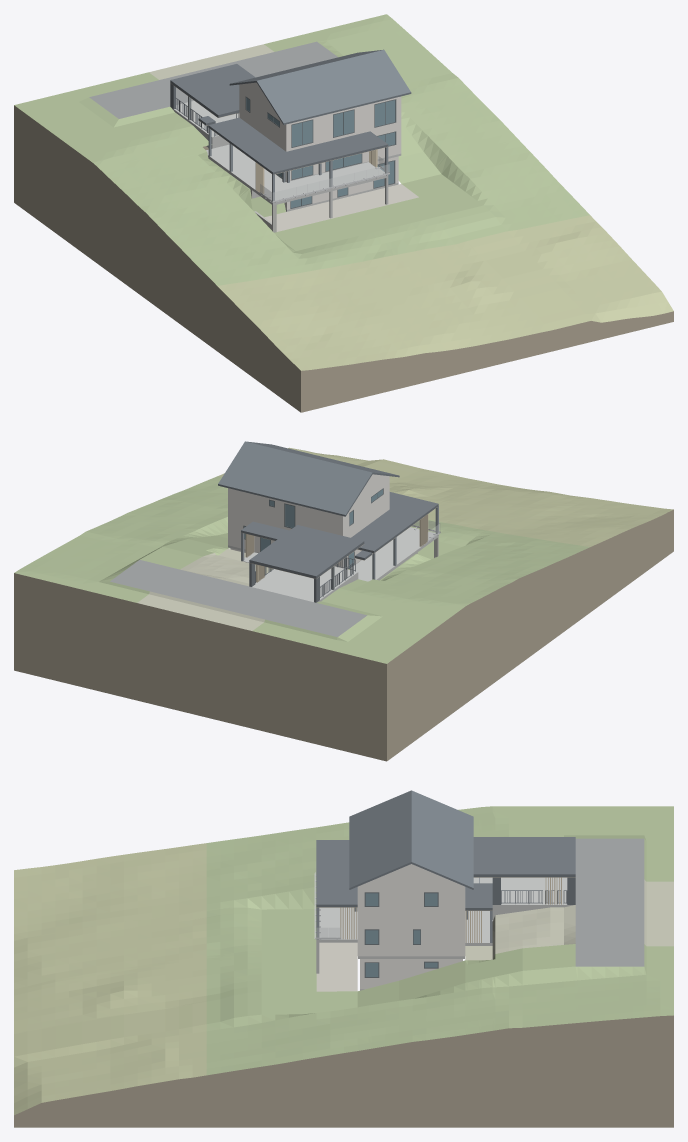
Rendered from Schaffernak_Haus_C.glb.
The picture shows the model from 3 angles, top to bottom: view 1: azimuth 30°, elevation 25°; view 2: azimuth 150°, elevation 25°; view 3: azimuth 270°, elevation 25°; orthographic projection. The views are drawn at different scales.
Parts seen in each view (by area): view 1: Foto_Gelaende_Rasen_Boeschung, Foto_Gelaende_Hang_unten, Foto_Gelaende_Modellrand, Satteldach_0, Strasse_parallel_zum_Haus_schematisch, Foto_Gelaende_Kies_Kellerbereich, Entwurf_Dach_vorne, Carport_Dach, Balkon_vorne, Foto_Gelaende_Seitliche_Gruenflaeche, Entwurf_Dach_links, Foto_Gelaende_Rueckseite (+3 smaller); view 2: Foto_Gelaende_Modellrand, Foto_Gelaende_Rasen_Boeschung, Foto_Gelaende_Hang_unten, Strasse_parallel_zum_Haus_schematisch, Satteldach_1, Foto_Gelaende_Rueckseite, Carport_Dach, Foto_Gelaende_Seitliche_Gruenflaeche, Carport_Boden, Entwurf_Dach_links, Balkon_links, OG_back_Wand4 (+5 smaller); view 3: Foto_Gelaende_Rasen_Boeschung, Foto_Gelaende_Modellrand, Foto_Gelaende_Hang_unten, Strasse_parallel_zum_Haus_schematisch, Foto_Gelaende_Rueckseite, Foto_Gelaende_Seitliche_Gruenflaeche, Satteldach_0, Satteldach_1, Carport_Dach, Entwurf_Dach_vorne, Foto_Gelaende_Kies_Kellerbereich, Carport_Boden (+9 smaller).
Boxes of the visible parts, x1=… form: Foto_Gelaende_Rasen_Boeschung: x1=14, y1=14, x2=589, y2=285; Foto_Gelaende_Hang_unten: x1=217, y1=215, x2=673, y2=370; Foto_Gelaende_Modellrand: x1=14, y1=105, x2=673, y2=412; Satteldach_0: x1=256, y1=50, x2=411, y2=124; Strasse_parallel_zum_Haus_schematisch: x1=89, y1=41, x2=337, y2=118; Foto_Gelaende_Kies_Kellerbereich: x1=265, y1=184, x2=418, y2=231; Entwurf_Dach_vorne: x1=255, y1=131, x2=388, y2=174; Carport_Dach: x1=171, y1=64, x2=254, y2=114; Balkon_vorne: x1=255, y1=162, x2=388, y2=205; Foto_Gelaende_Seitliche_Gruenflaeche: x1=264, y1=34, x2=440, y2=183; Entwurf_Dach_links: x1=208, y1=117, x2=285, y2=160; Foto_Gelaende_Rueckseite: x1=149, y1=44, x2=273, y2=79; Foto_Gelaende_Modellrand: x1=14, y1=509, x2=673, y2=761; Foto_Gelaende_Rasen_Boeschung: x1=14, y1=476, x2=589, y2=663; Foto_Gelaende_Hang_unten: x1=218, y1=447, x2=673, y2=546; Strasse_parallel_zum_Haus_schematisch: x1=110, y1=560, x2=366, y2=636; Satteldach_1: x1=218, y1=441, x2=372, y2=516; Foto_Gelaende_Rueckseite: x1=137, y1=549, x2=272, y2=630; Carport_Dach: x1=250, y1=525, x2=363, y2=575; Foto_Gelaende_Seitliche_Gruenflaeche: x1=97, y1=533, x2=229, y2=602; Carport_Boden: x1=252, y1=569, x2=352, y2=602; Entwurf_Dach_links: x1=351, y1=509, x2=420, y2=552; Balkon_links: x1=351, y1=540, x2=420, y2=580; OG_back_Wand4: x1=228, y1=488, x2=268, y2=522; Foto_Gelaende_Rasen_Boeschung: x1=206, y1=806, x2=673, y2=1075; Foto_Gelaende_Modellrand: x1=14, y1=1015, x2=673, y2=1127; Foto_Gelaende_Hang_unten: x1=14, y1=843, x2=206, y2=1115; Strasse_parallel_zum_Haus_schematisch: x1=575, y1=838, x2=644, y2=966; Foto_Gelaende_Rueckseite: x1=465, y1=879, x2=673, y2=960; Foto_Gelaende_Seitliche_Gruenflaeche: x1=357, y1=944, x2=673, y2=1007; Satteldach_0: x1=349, y1=790, x2=411, y2=889; Satteldach_1: x1=411, y1=790, x2=473, y2=889; Carport_Dach: x1=473, y1=837, x2=575, y2=874; Entwurf_Dach_vorne: x1=316, y1=840, x2=357, y2=907; Foto_Gelaende_Kies_Kellerbereich: x1=316, y1=942, x2=357, y2=991; Carport_Boden: x1=492, y1=877, x2=573, y2=906.
Bounding box in the file's own units: 36 × 16.06 × 48.
